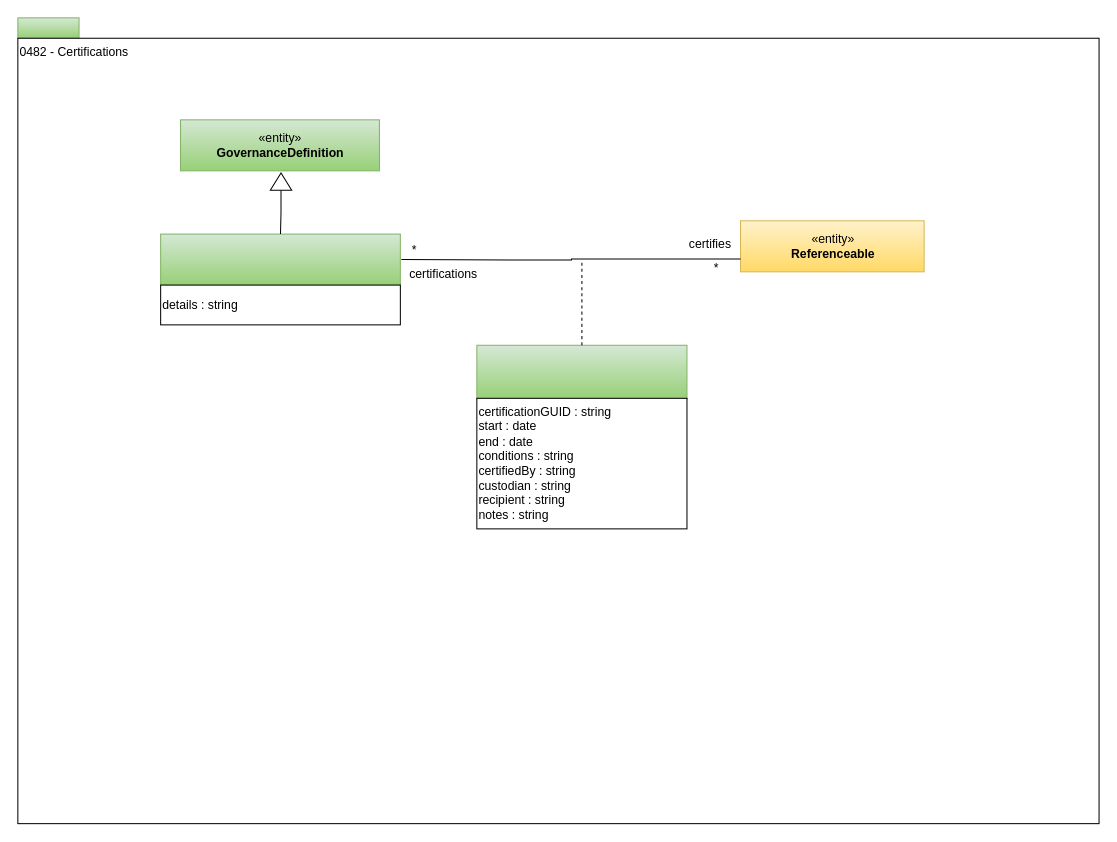
The diagram is 1117 pixels wide and 842 high, and some of its shapes have lost their labels. The centre of each missing label's shape, as x and y in pixels:
"«entity» CertificationType" belongs at (x=280, y=259).
"«relationship» Certification" belongs at (x=581, y=371).
